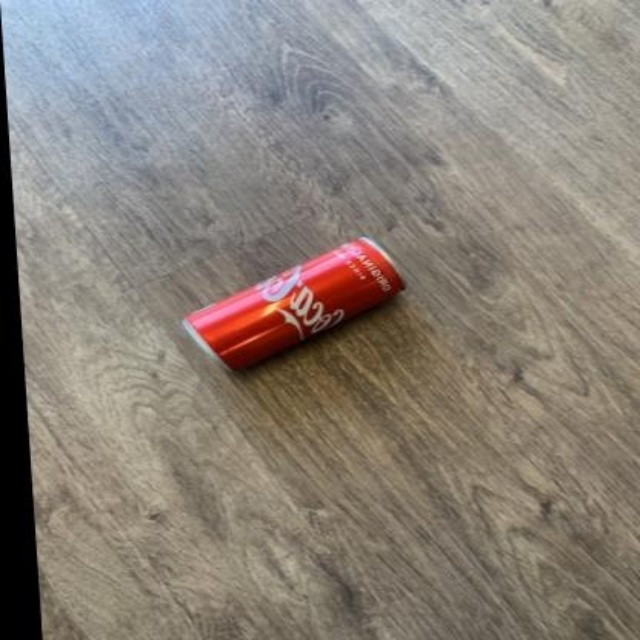trash: (183, 237, 403, 368)
